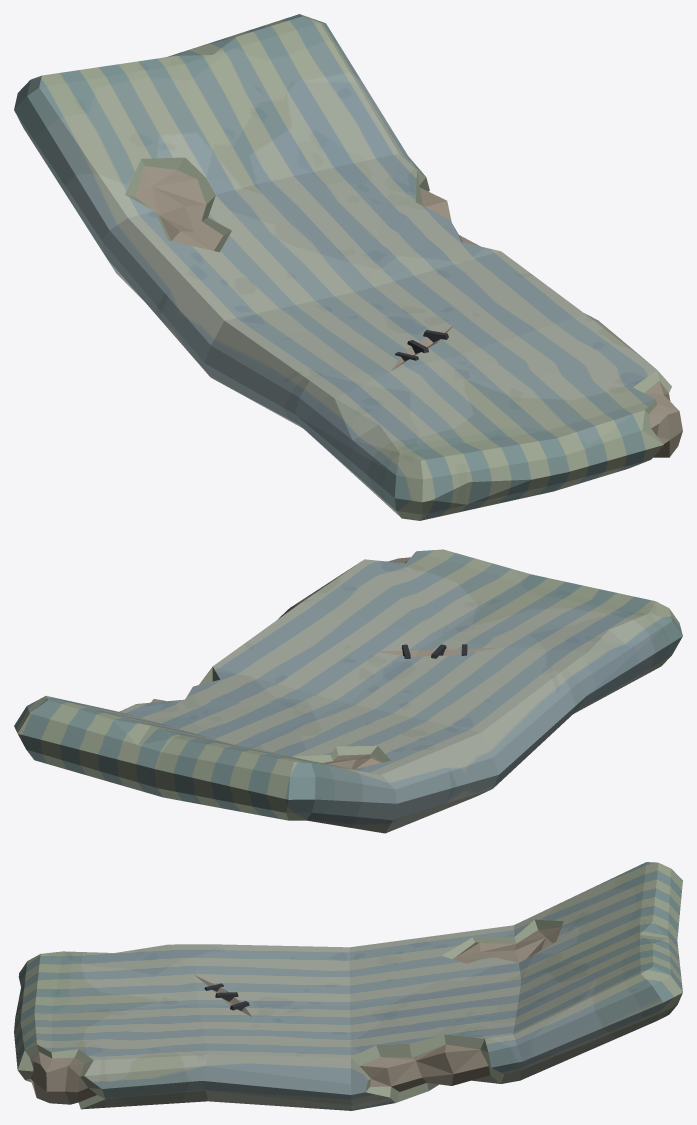
Rendered from SM_Prop_Mattress_04.fbx.
3 views of the same model, one above another, from view 1: azimuth 30°, elevation 25°; view 2: azimuth 150°, elevation 25°; view 3: azimuth 270°, elevation 25° (orthographic). The views are drawn at different scales.
Parts seen in each view (by area): view 1: SM_Prop_Mattress_04; view 2: SM_Prop_Mattress_04; view 3: SM_Prop_Mattress_04.
Part boxes in pixels (x1,y1,x2,y2): SM_Prop_Mattress_04: (14, 14, 682, 520); SM_Prop_Mattress_04: (14, 549, 682, 833); SM_Prop_Mattress_04: (14, 862, 682, 1110).
Size of the model in its own units: 104 by 55.71 by 236.
